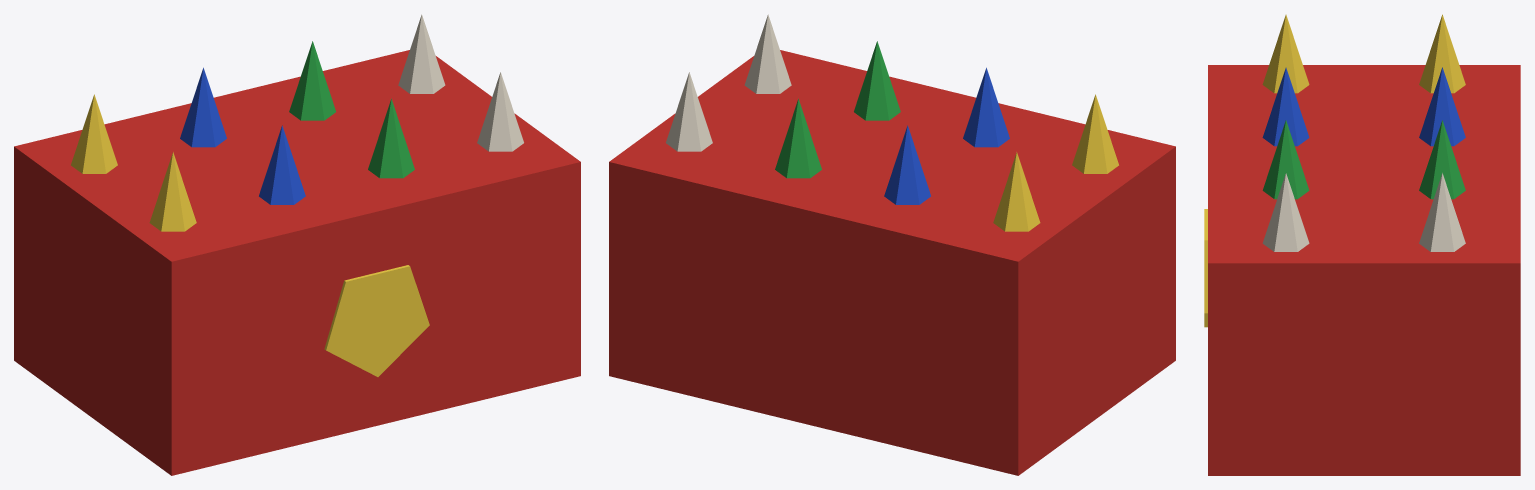
The model's file is rocket_box.glb.
3 renders of one model, left to right at view 1: azimuth 30°, elevation 25°; view 2: azimuth 150°, elevation 25°; view 3: azimuth 270°, elevation 25°, orthographic.
Visible parts, largest first — view 1: box_rocket_box_red, rockets, label_rocket_star; view 2: box_rocket_box_red, rockets; view 3: box_rocket_box_red, rockets, label_rocket_star.
Part boxes in pixels (x1,y1,x2,y2): box_rocket_box_red: [14, 50, 580, 475]; rockets: [71, 14, 523, 231]; label_rocket_star: [324, 265, 429, 376]; box_rocket_box_red: [609, 50, 1175, 475]; rockets: [666, 14, 1118, 231]; box_rocket_box_red: [1208, 65, 1520, 475]; rockets: [1262, 14, 1465, 251]; label_rocket_star: [1204, 209, 1207, 327].
Size of the model in its own units: 0.6 by 0.4 by 0.4045.
